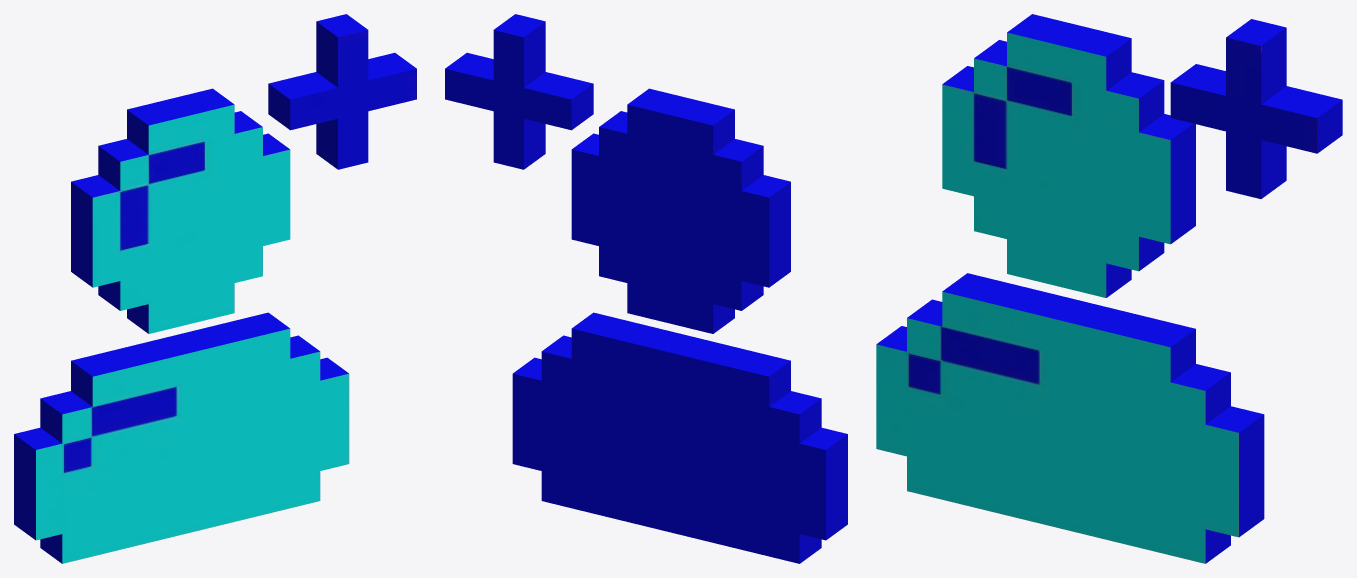
File: vcf.glb
The picture shows the model from 3 angles, left to right: view 1: azimuth 30°, elevation 25°; view 2: azimuth 150°, elevation 25°; view 3: azimuth 330°, elevation 25°; orthographic projection. The views are drawn at different scales.
Visible parts, largest first — view 1: Plane.003; view 2: Plane.003; view 3: Plane.003.
Part boxes in pixels (x1=…): Plane.003: x1=14, y1=14, x2=416, y2=563; Plane.003: x1=445, y1=14, x2=847, y2=563; Plane.003: x1=876, y1=14, x2=1342, y2=563.
Bounding box in the file's own units: 0.4139 × 0.4766 × 0.0412.
2 materials, 1 textured.
